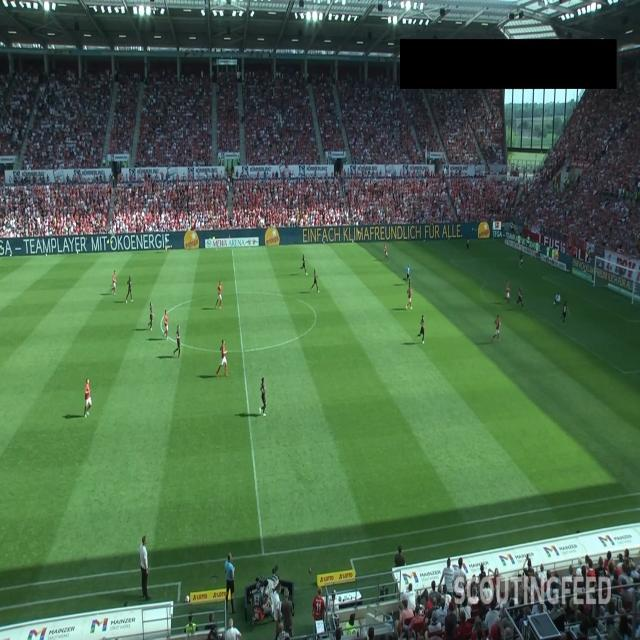ball: (553, 301, 555, 305)
